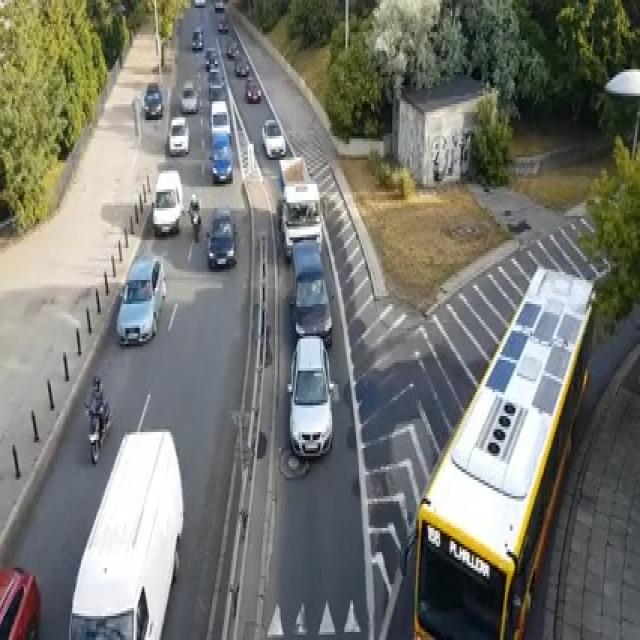bus: (412, 264, 595, 637)
car: (68, 427, 183, 637), (286, 333, 334, 459), (288, 240, 332, 344), (116, 253, 165, 344), (280, 181, 322, 259), (0, 566, 41, 638), (82, 376, 110, 464), (152, 168, 182, 235), (206, 206, 236, 270), (209, 131, 233, 184), (262, 118, 286, 158), (167, 114, 189, 154), (209, 98, 231, 138), (141, 80, 162, 117), (180, 80, 198, 112), (208, 66, 225, 98), (245, 75, 261, 101), (204, 46, 218, 70), (191, 24, 203, 51), (225, 37, 239, 59), (234, 56, 250, 75), (218, 16, 228, 32), (213, 0, 224, 11), (194, 0, 206, 5)
